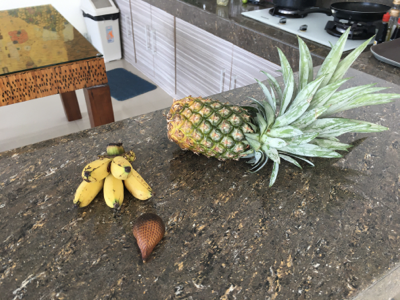banana: (73, 143, 156, 212)
pineapple: (168, 30, 389, 180)
snake fruit: (131, 214, 165, 266)
